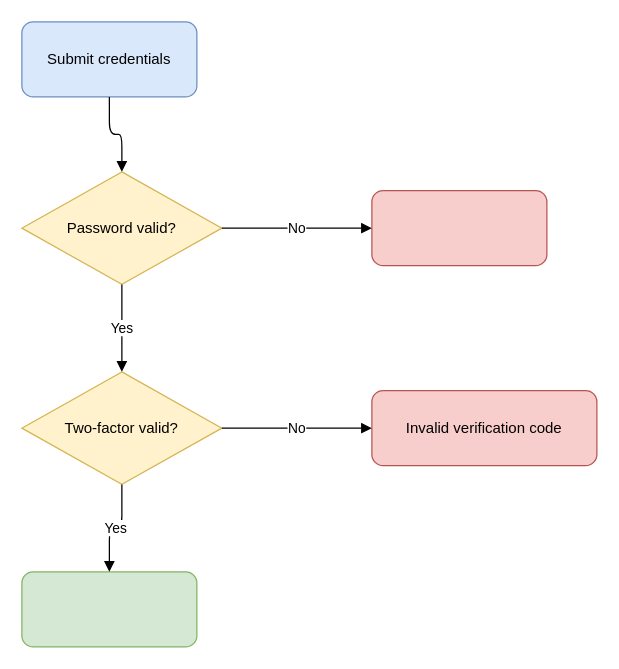
The diagram is 619 pixels wide and 669 high, and some of its shapes have lost their labels. The shapes that lost their labels are listed below. From the top down, each one's centre as x and y in pixels, then its label:
the point at 459,227: Invalid password
the point at 109,609: Signed in
